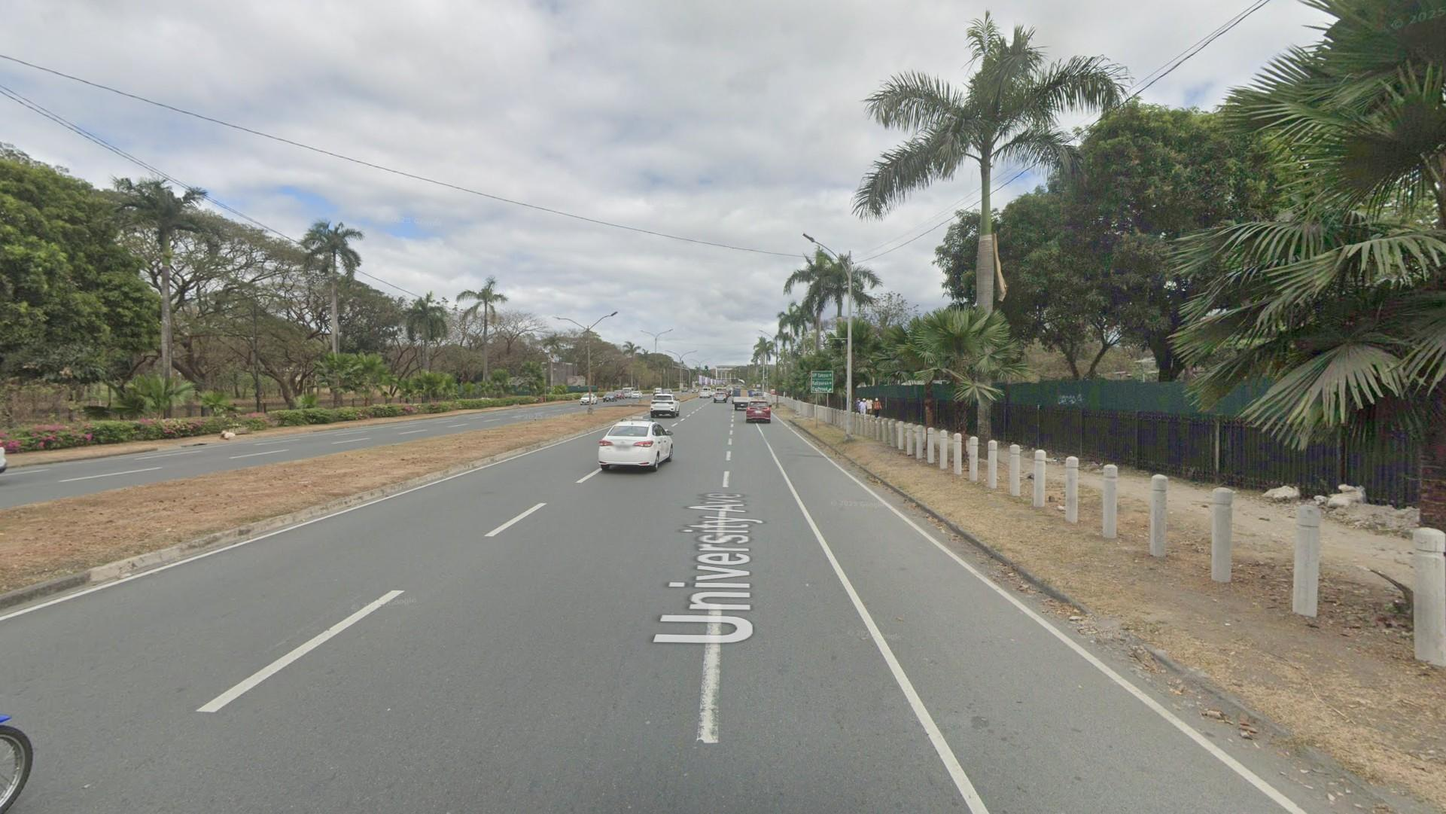pedestrian: (873, 397, 882, 419), (858, 398, 867, 418), (866, 396, 874, 418), (854, 396, 861, 417)
